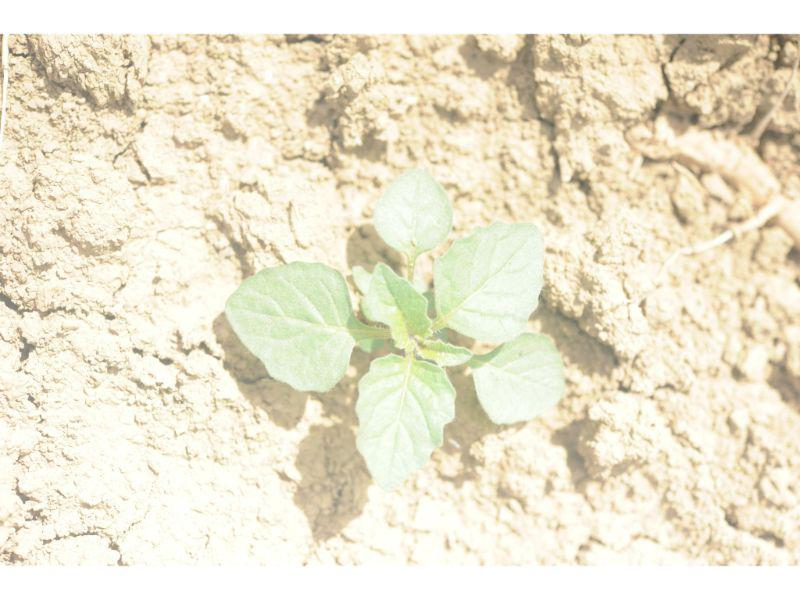nightshade: (225, 168, 569, 489)
